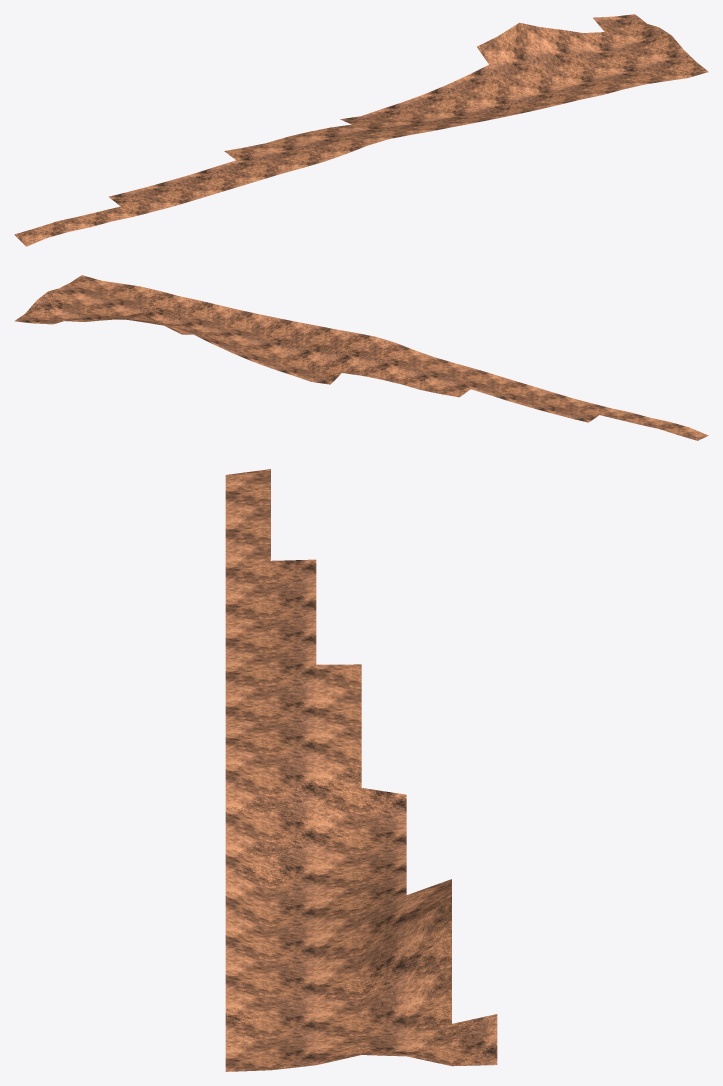
Rendered from terrain_11_08.dae.
The picture shows the model from 3 angles, top to bottom: view 1: azimuth 30°, elevation 25°; view 2: azimuth 150°, elevation 25°; view 3: azimuth 270°, elevation 25°; orthographic projection. The views are drawn at different scales.
Visible parts, largest first — view 1: terrain_11_08-node; view 2: terrain_11_08-node; view 3: terrain_11_08-node.
Boxes of the visible parts, x1=… form: terrain_11_08-node: x1=14, y1=14, x2=708, y2=246; terrain_11_08-node: x1=14, y1=275, x2=708, y2=440; terrain_11_08-node: x1=225, y1=469, x2=497, y2=1071.
Size of the model in its own units: 128 by 24 by 7.82.
1 material, 1 textured.
